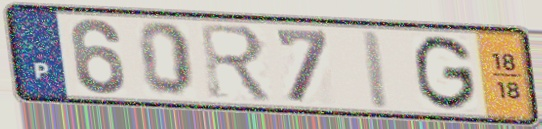0: (135, 18, 197, 100)
6: (67, 16, 127, 96)
7: (273, 25, 332, 106)
G: (413, 33, 479, 113)
I: (359, 27, 394, 112)
R: (196, 21, 278, 106)
